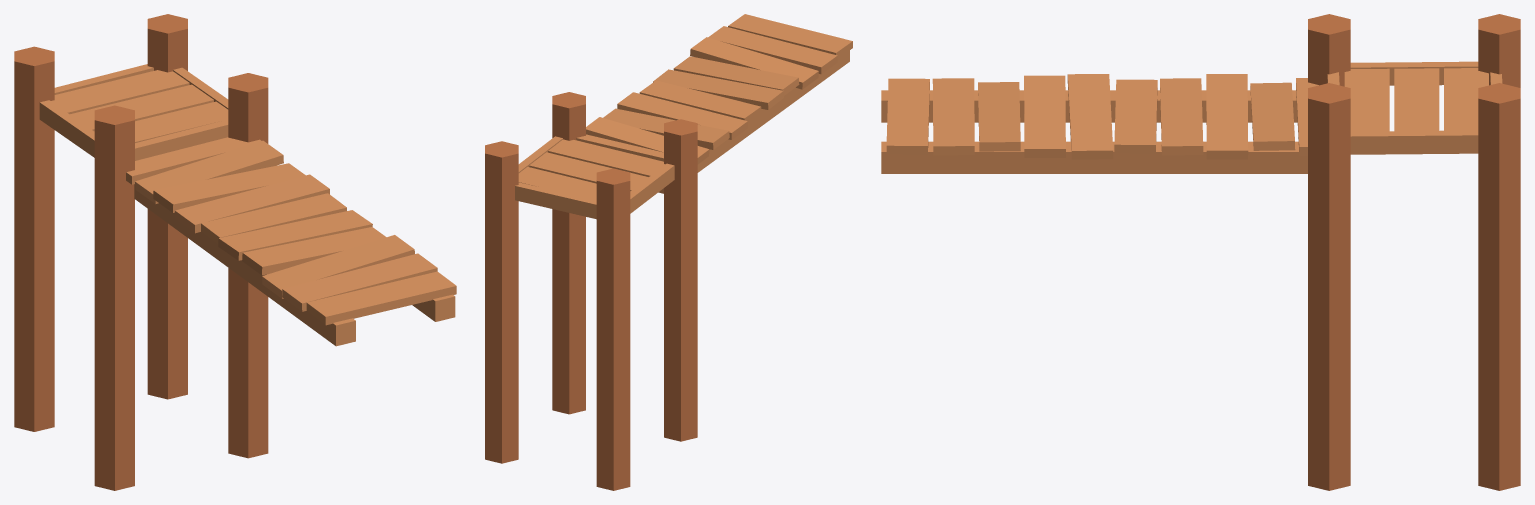
The model's file is River_Bridge_01a.fbx.
3 views of the same model, side by side, from view 1: azimuth 30°, elevation 25°; view 2: azimuth 150°, elevation 25°; view 3: azimuth 270°, elevation 25° (orthographic). The views are drawn at different scales.
Parts seen in each view (by area): view 1: River_Bridge_01a; view 2: River_Bridge_01a; view 3: River_Bridge_01a.
Part boxes in pixels (x1,y1,x2,y2): River_Bridge_01a: (14,14,456,490); River_Bridge_01a: (485,14,852,490); River_Bridge_01a: (881,14,1520,490).
Bounding box in the file's own units: 752 × 1512 × 2264.
